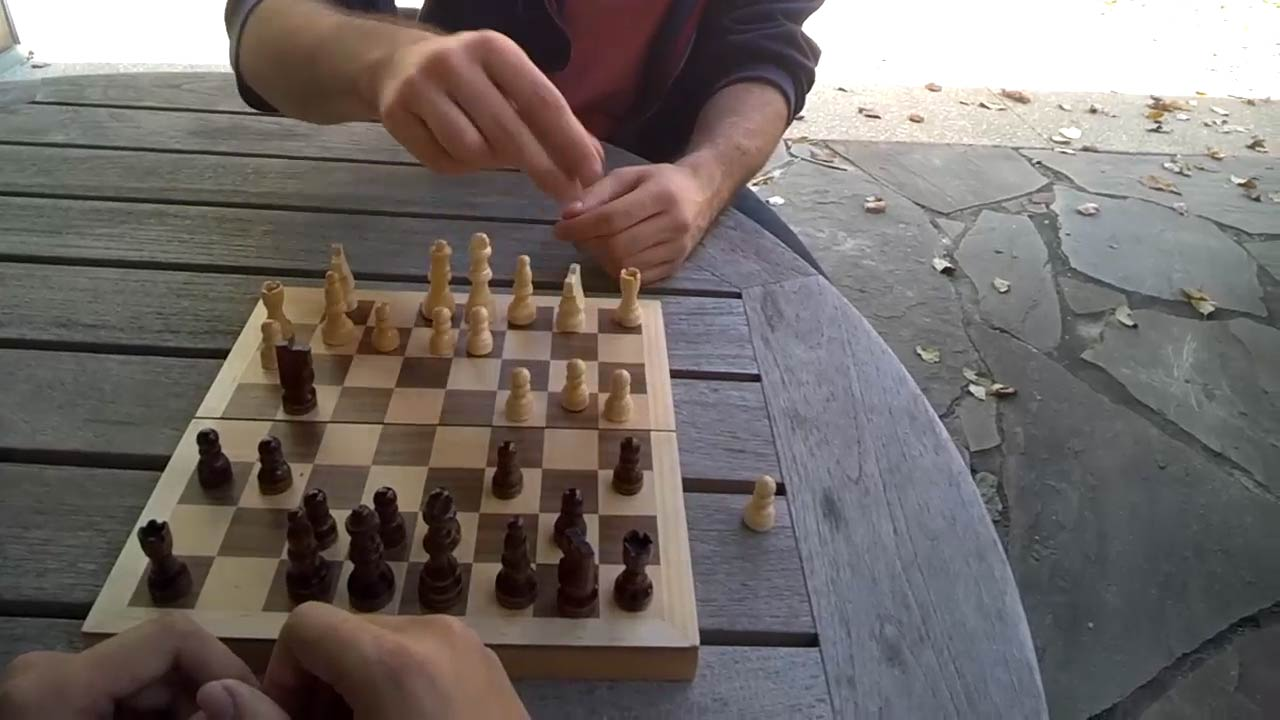hand: (378, 32, 593, 204), (202, 606, 533, 717), (9, 614, 252, 713), (557, 166, 711, 286)
